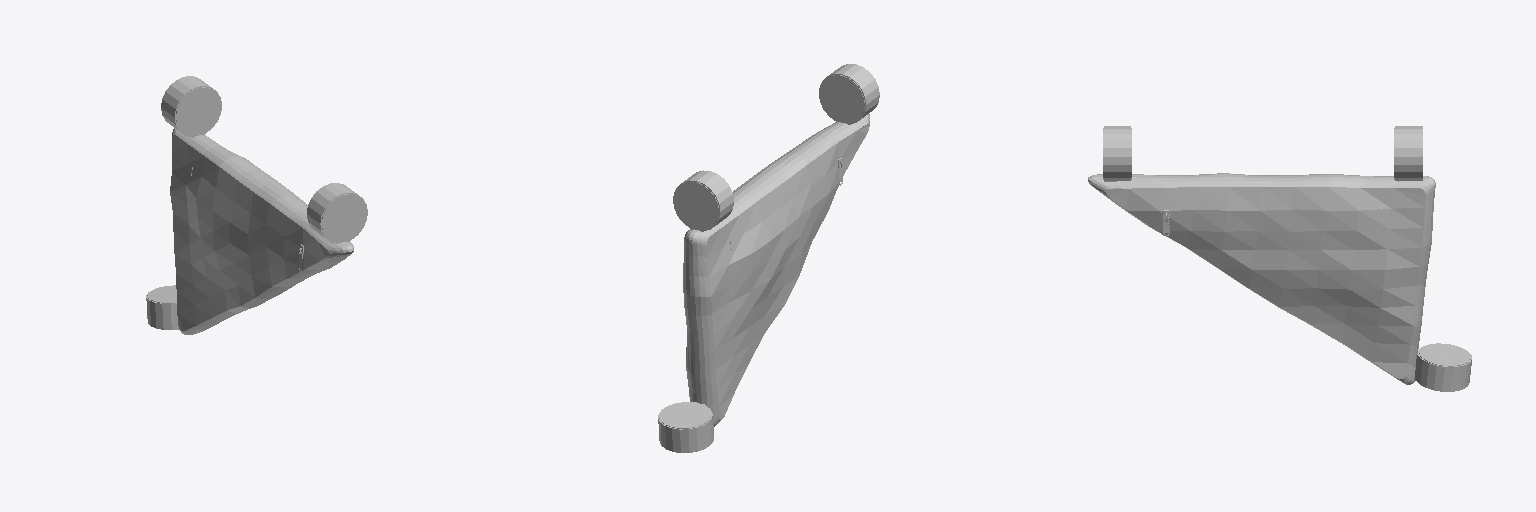
Rendered from Frame_bag.obj.
3 renders of one model, left to right at view 1: azimuth 30°, elevation 25°; view 2: azimuth 150°, elevation 25°; view 3: azimuth 270°, elevation 25°, orthographic.
Visible parts, largest first — view 1: FrameBag; view 2: FrameBag; view 3: FrameBag.
Boxes of the visible parts, x1=… form: FrameBag: x1=146, y1=76, x2=367, y2=334; FrameBag: x1=658, y1=64, x2=879, y2=452; FrameBag: x1=1088, y1=126, x2=1471, y2=391.
Bounding box in the file's own units: 0.0317 × 0.1617 × 0.2218.